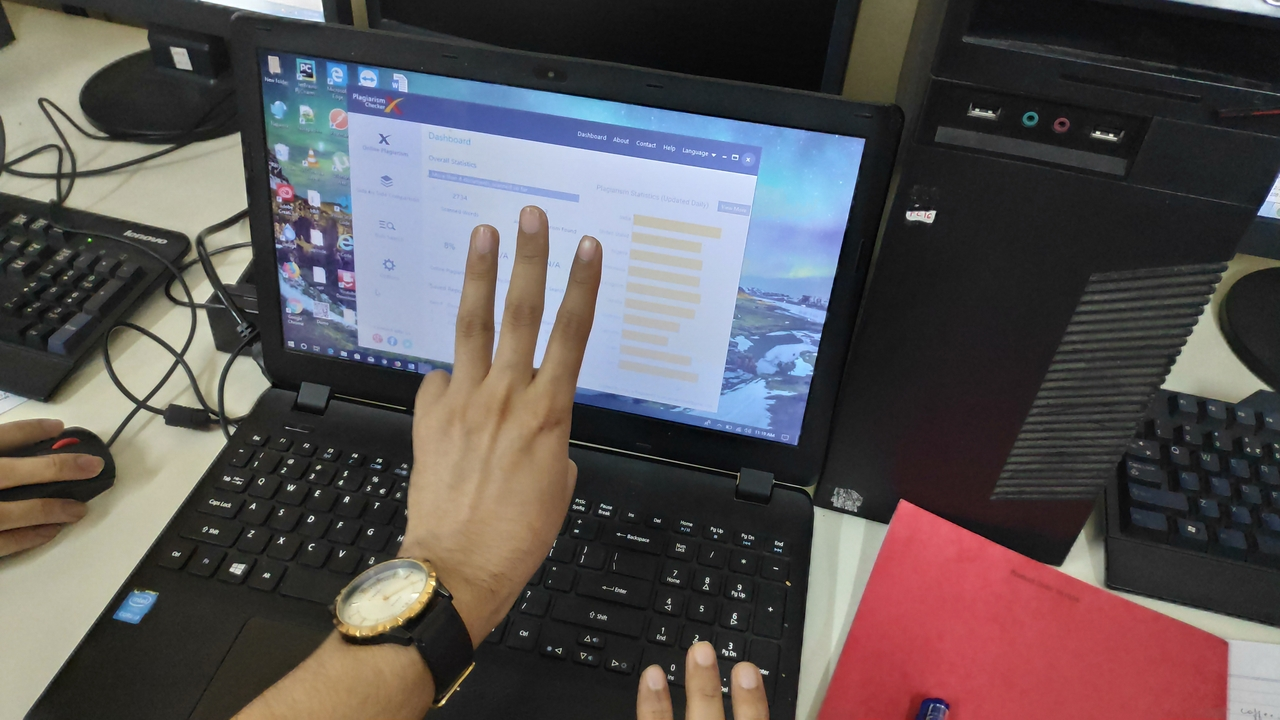fingertip: (506, 194, 556, 246), (560, 224, 608, 272), (460, 216, 504, 260)
